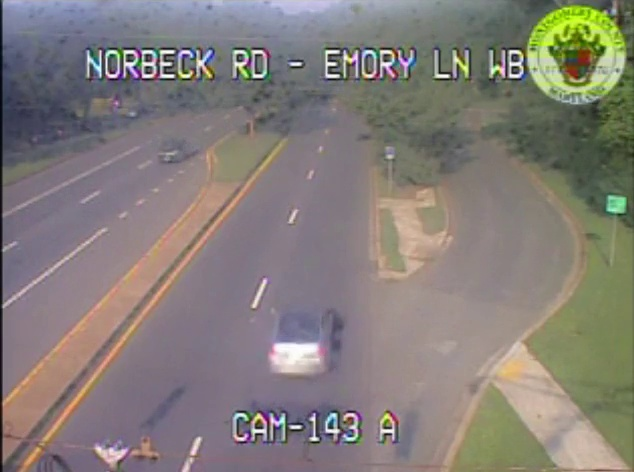car: (268, 305, 331, 375)
